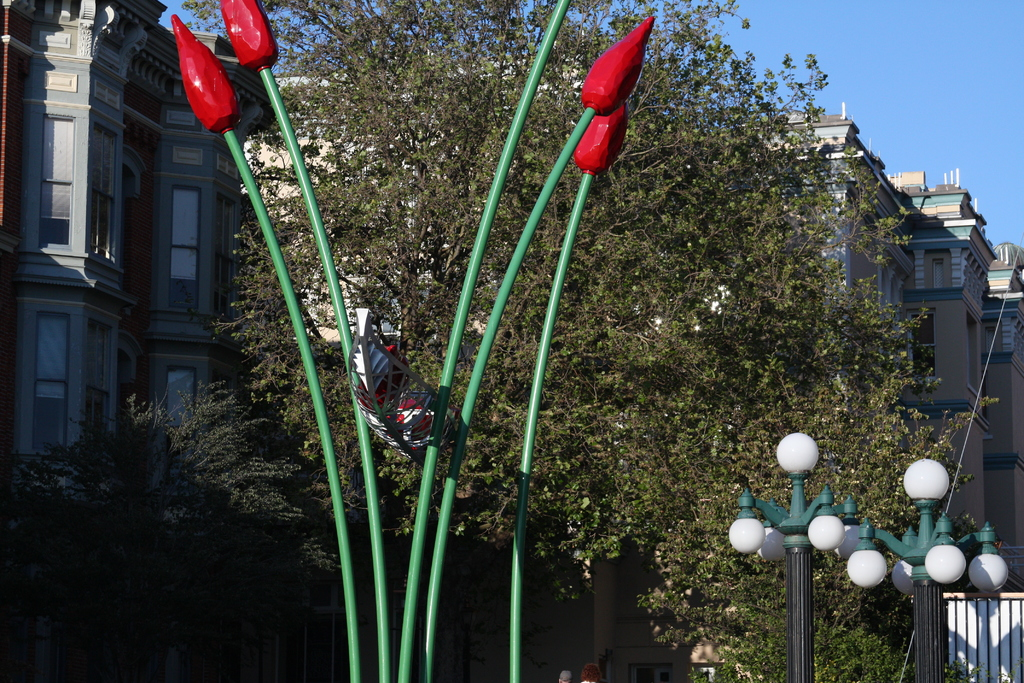Tree: (0, 0, 1001, 683)
